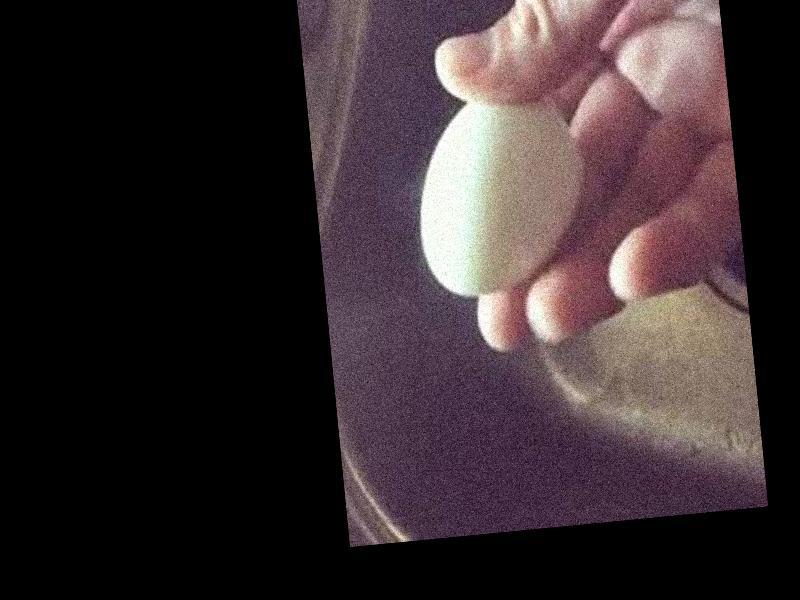Eggs: (408, 88, 589, 296)
